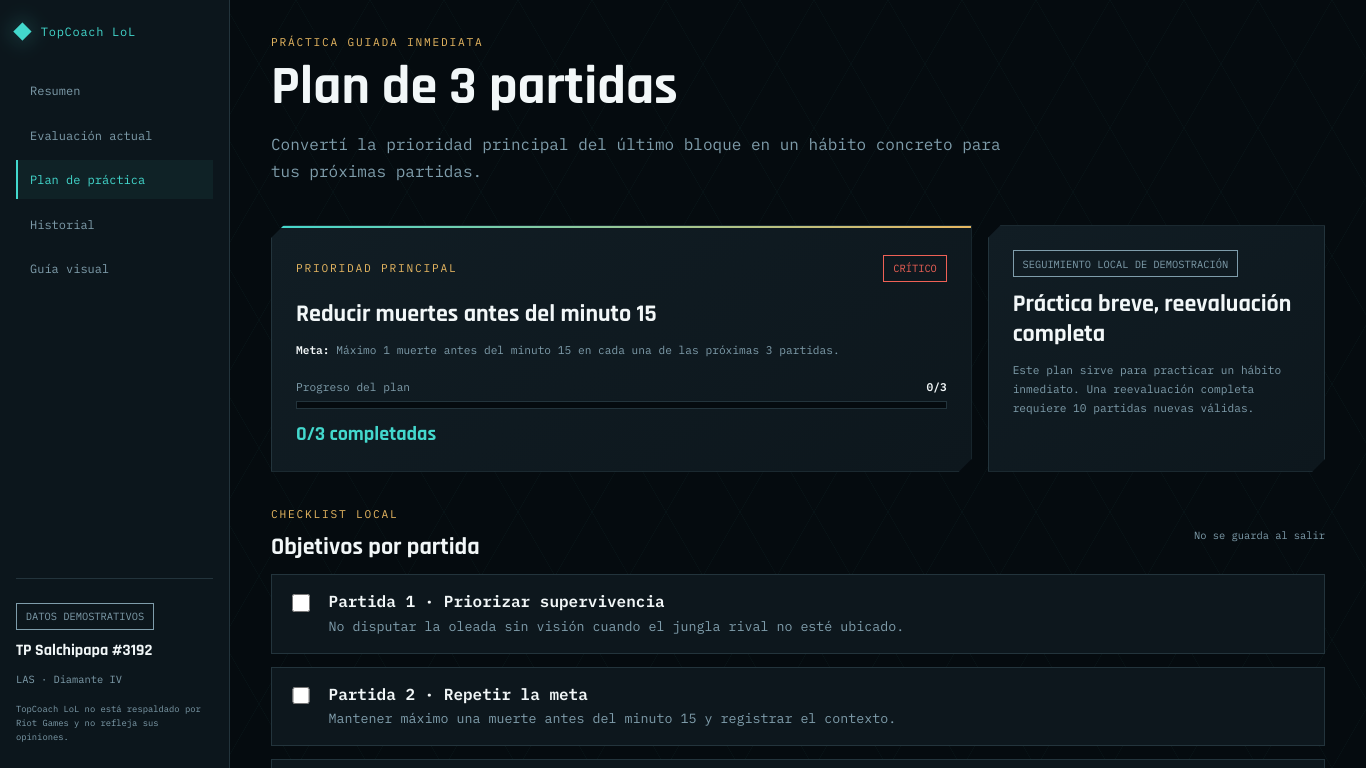
Test: progress journey › tracks three practice matches locally
expect the text "0/3 completadas" is shown: met, box x1=296 y1=421 x2=436 y2=447
Click the checkbox labelled "Partida 1".
click(301, 603)  # box x1=292 y1=594 x2=310 y2=612
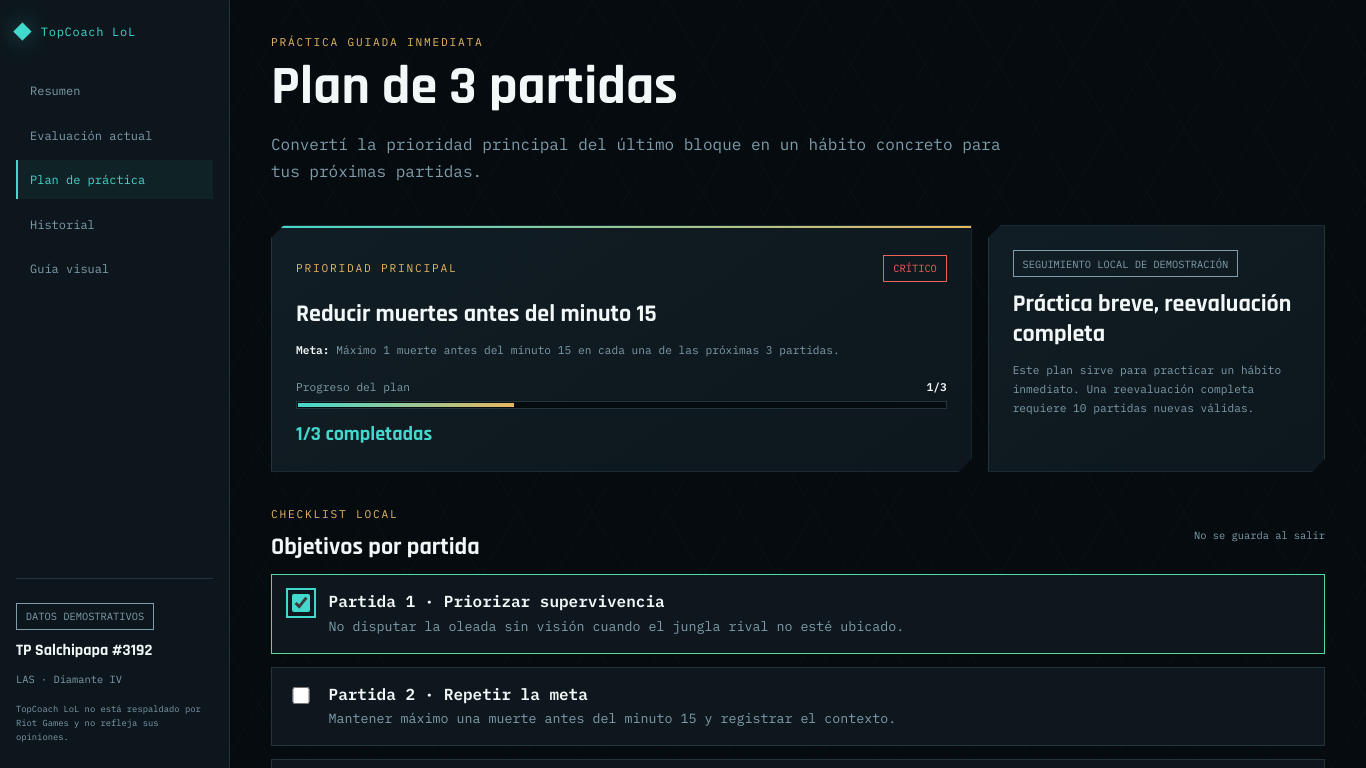
expect the text "10 partidas nuevas válidas" is shown: met, box x1=1013 y1=363 x2=1281 y2=415
expect the text "1/3 completadas" is shown: met, box x1=296 y1=421 x2=432 y2=447
